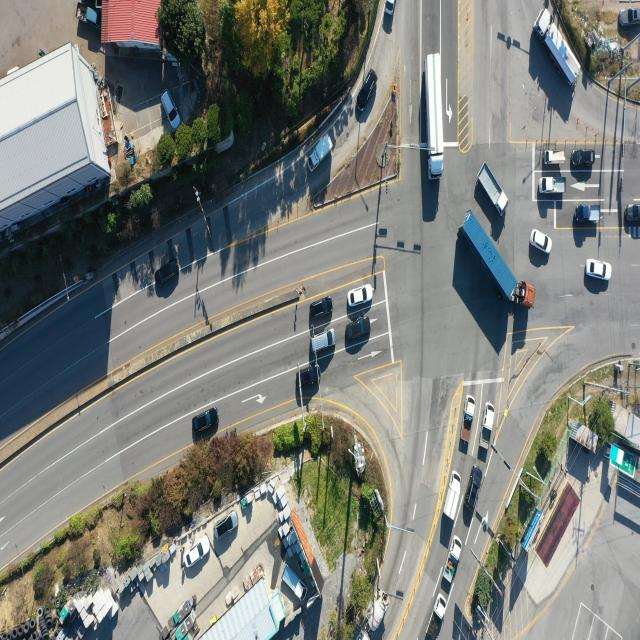car: (462, 465, 483, 516), (186, 535, 212, 568), (162, 90, 182, 130), (193, 409, 220, 434), (310, 329, 337, 354), (157, 260, 180, 289), (349, 315, 376, 339), (356, 76, 373, 114), (215, 511, 238, 539), (297, 361, 321, 387), (348, 284, 373, 308), (344, 321, 370, 344), (529, 230, 551, 256), (586, 260, 612, 282), (310, 298, 334, 321), (570, 148, 594, 167), (619, 8, 640, 26), (625, 204, 640, 224)
large_truck: (461, 210, 536, 314)
medium_truck: (535, 8, 581, 90), (424, 54, 446, 182), (355, 588, 391, 640), (477, 163, 508, 214)
small_truck: (278, 565, 310, 604), (441, 470, 462, 523), (306, 134, 332, 174), (462, 397, 478, 457), (69, 0, 98, 30), (443, 537, 461, 583), (430, 594, 446, 640), (482, 402, 496, 452), (576, 204, 601, 224), (542, 180, 568, 198), (545, 150, 567, 164), (383, 0, 396, 18)
